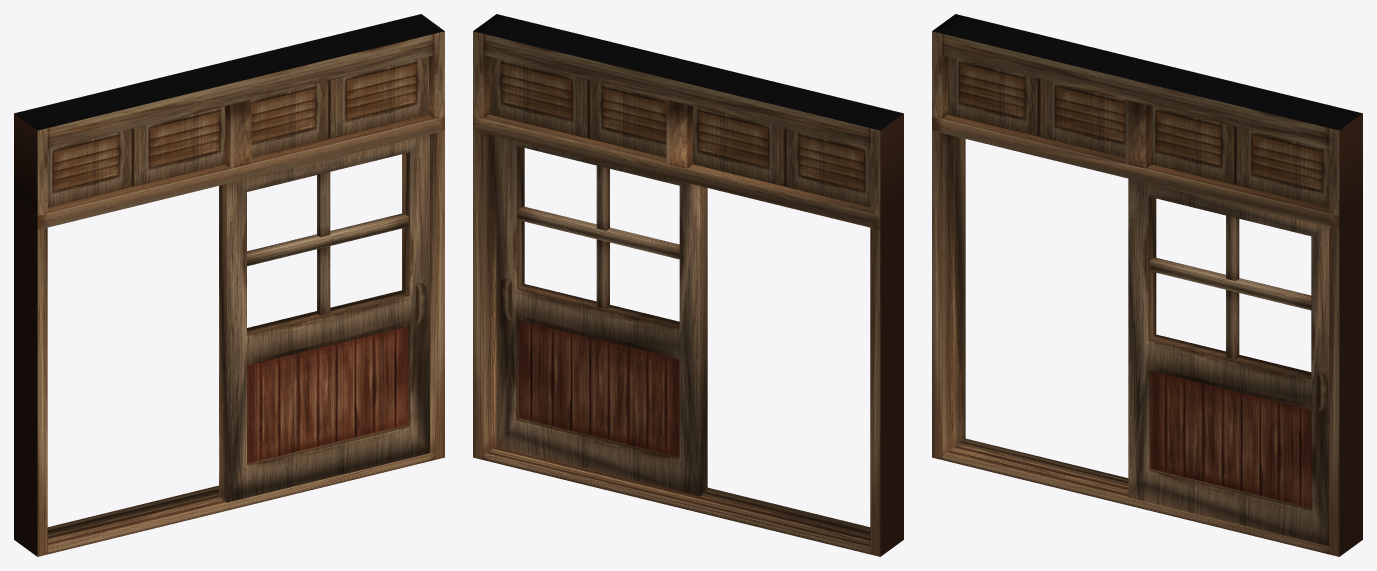
Rendered from a_SWGdoor02B.glb.
3 renders of one model, left to right at view 1: azimuth 30°, elevation 25°; view 2: azimuth 150°, elevation 25°; view 3: azimuth 330°, elevation 25°, orthographic.
Visible parts, largest first — view 1: a_SWGdoor02B; view 2: a_SWGdoor02B; view 3: a_SWGdoor02B.
Part boxes in pixels (x1=…): a_SWGdoor02B: x1=14, y1=14, x2=444, y2=556; a_SWGdoor02B: x1=473, y1=14, x2=903, y2=556; a_SWGdoor02B: x1=932, y1=14, x2=1362, y2=556.
Bounding box in the file's own units: 3 × 3 × 0.3004.
3 materials, 3 textured.
